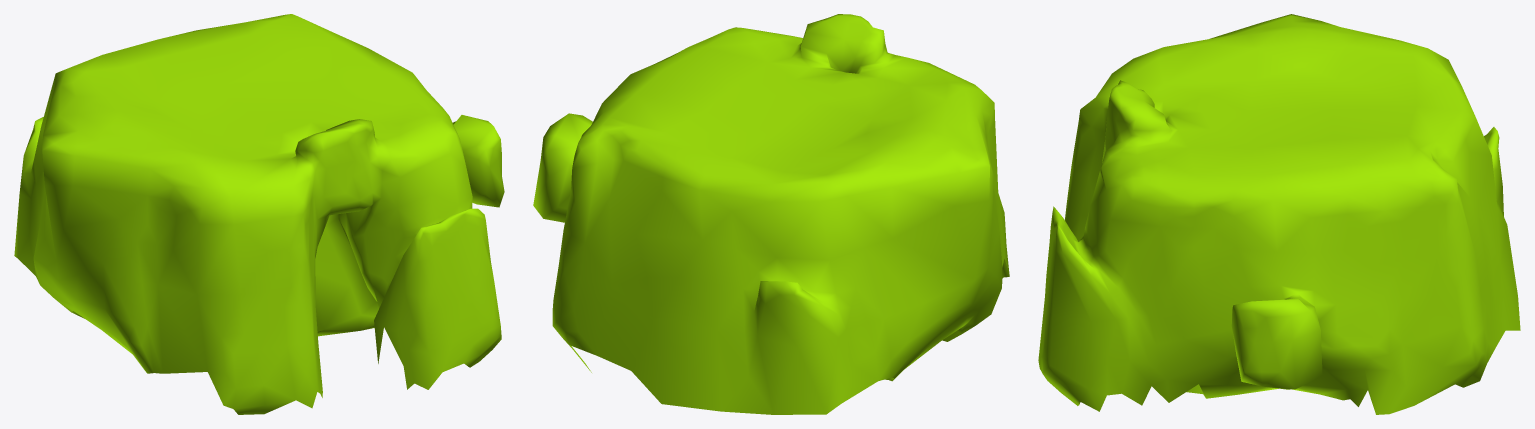
Rendered from cliff1.fbx.
3 views of the same model, side by side, from view 1: azimuth 30°, elevation 25°; view 2: azimuth 150°, elevation 25°; view 3: azimuth 270°, elevation 25° (orthographic). The views are drawn at different scales.
Parts seen in each view (by area): view 1: Retopo_cliff2.cutter; view 2: Retopo_cliff2.cutter; view 3: Retopo_cliff2.cutter.
Boxes of the visible parts, x1,y1,x2,y2 form: Retopo_cliff2.cutter: (14, 14, 504, 414); Retopo_cliff2.cutter: (533, 14, 1009, 414); Retopo_cliff2.cutter: (1038, 14, 1520, 414).
Bounding box in the file's own units: 1.36 × 0.7284 × 1.23.
